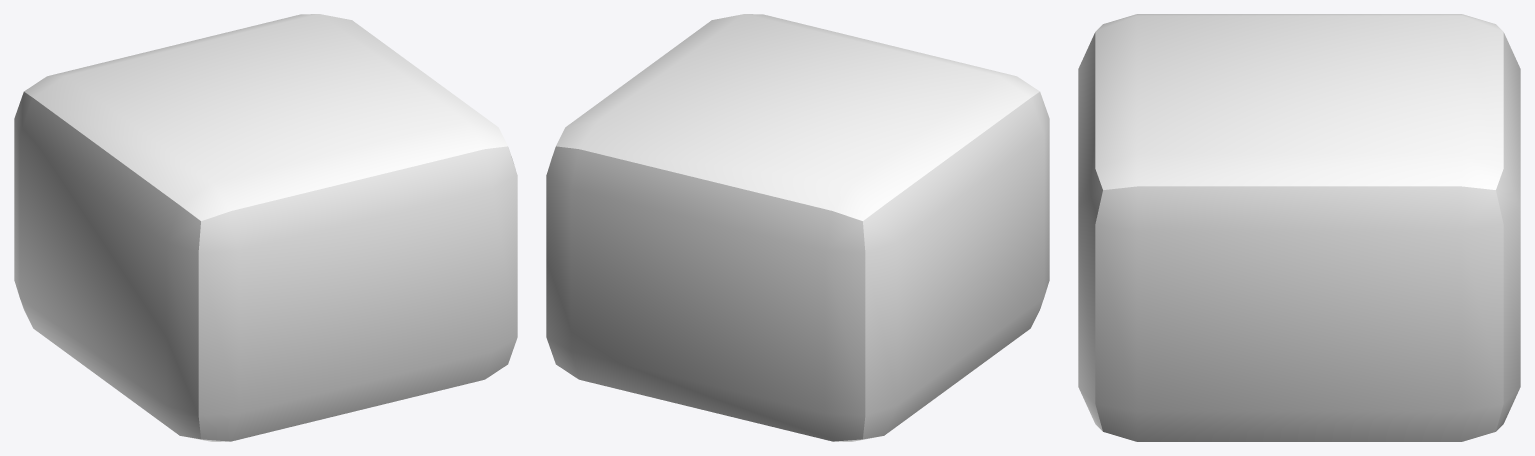
The model's file is RockSmall002.fbx.
3 renders of one model, left to right at view 1: azimuth 30°, elevation 25°; view 2: azimuth 150°, elevation 25°; view 3: azimuth 270°, elevation 25°, orthographic. The views are drawn at different scales.
Parts seen in each view (by area): view 1: RockSmall002; view 2: RockSmall002; view 3: RockSmall002.
Boxes of the visible parts, x1,y1,x2,y2 form: RockSmall002: [14, 14, 517, 441]; RockSmall002: [546, 14, 1049, 441]; RockSmall002: [1078, 14, 1520, 441].
Bounding box in the file's own units: 106 × 75.96 × 106.
